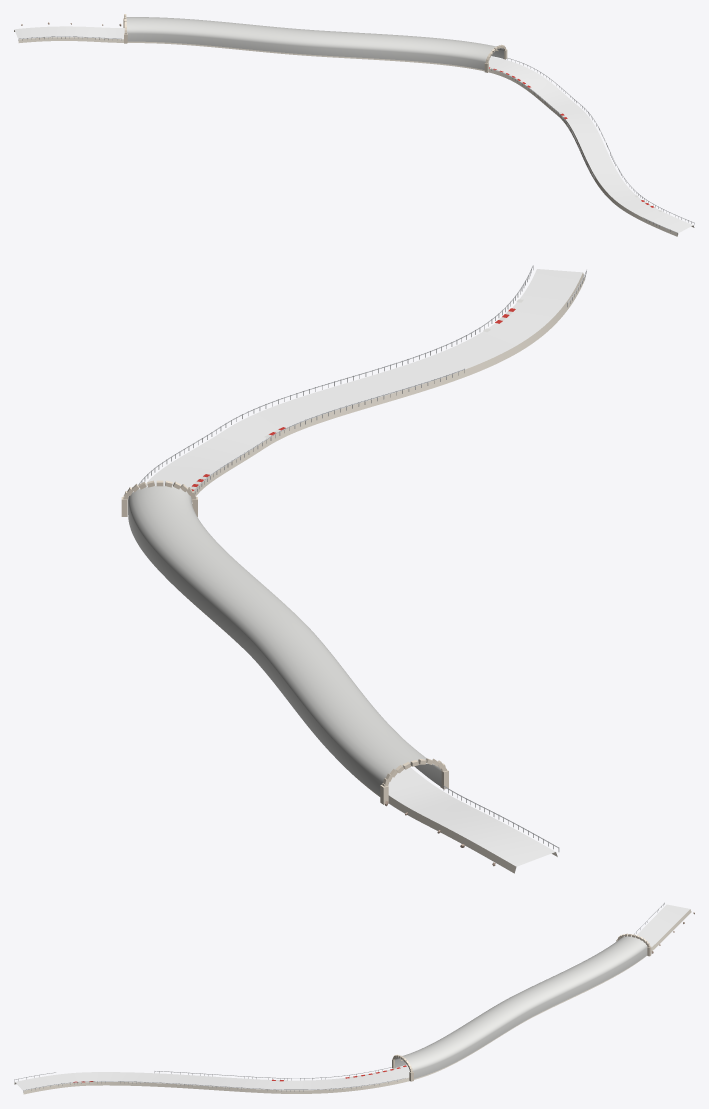
Rendered from SM_AsirMountains_Track_07.fbx.
3 renders of one model, top to bottom at view 1: azimuth 30°, elevation 25°; view 2: azimuth 150°, elevation 25°; view 3: azimuth 270°, elevation 25°, orthographic. The views are drawn at different scales.
Visible parts, largest first — view 1: SM_AsirMountains_Track_07; view 2: SM_AsirMountains_Track_07; view 3: SM_AsirMountains_Track_07.
Boxes of the visible parts, left/top/right/bottom form: SM_AsirMountains_Track_07: left=14, top=14, right=694, bottom=236; SM_AsirMountains_Track_07: left=121, top=265, right=586, bottom=873; SM_AsirMountains_Track_07: left=14, top=902, right=694, bottom=1094.
Size of the model in its own units: 19469 by 2095 by 32119.
